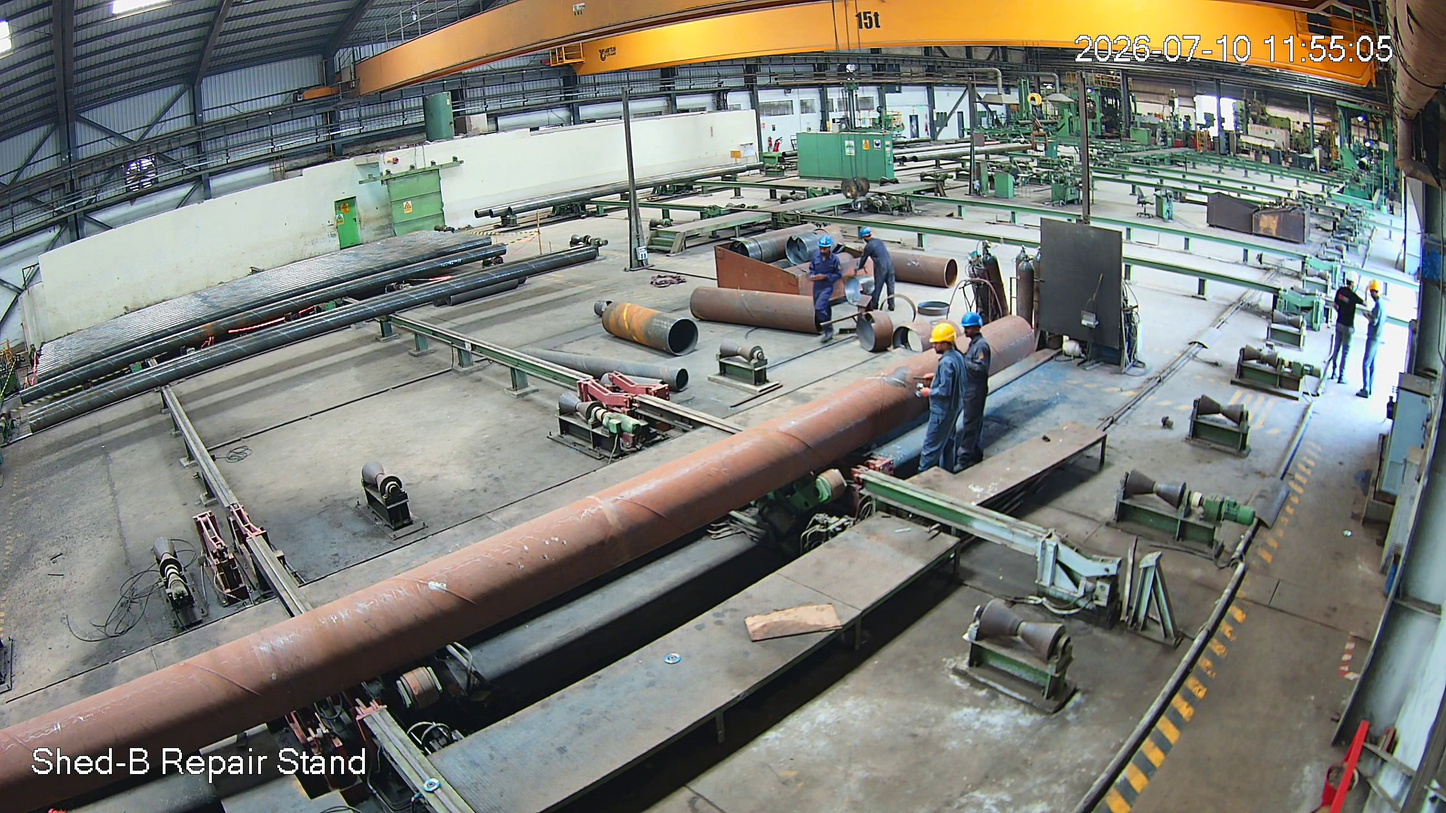Helmet: (927, 318, 960, 368), (1364, 267, 1390, 313), (959, 308, 985, 346), (812, 233, 836, 264), (855, 220, 875, 251)
Person: (915, 320, 964, 481), (958, 310, 991, 472), (851, 224, 897, 317), (1361, 274, 1390, 409), (1335, 266, 1362, 395), (809, 236, 841, 344)
